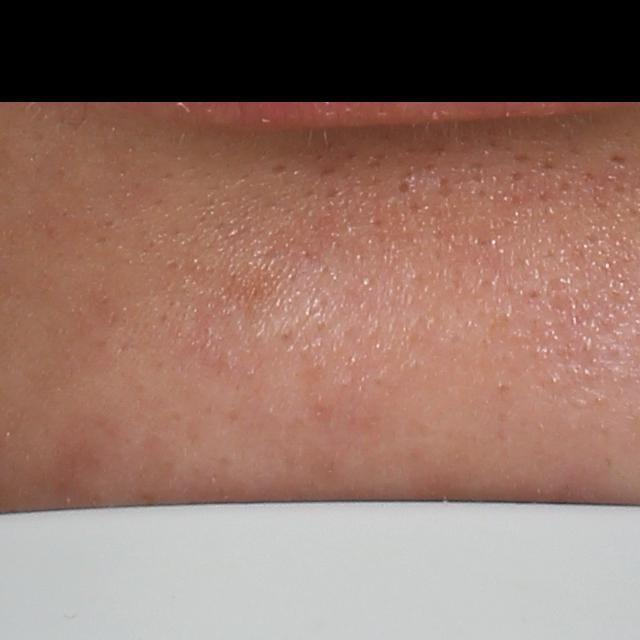atrophic_scar: (607, 153, 625, 164)
comedo: (394, 179, 411, 197)
